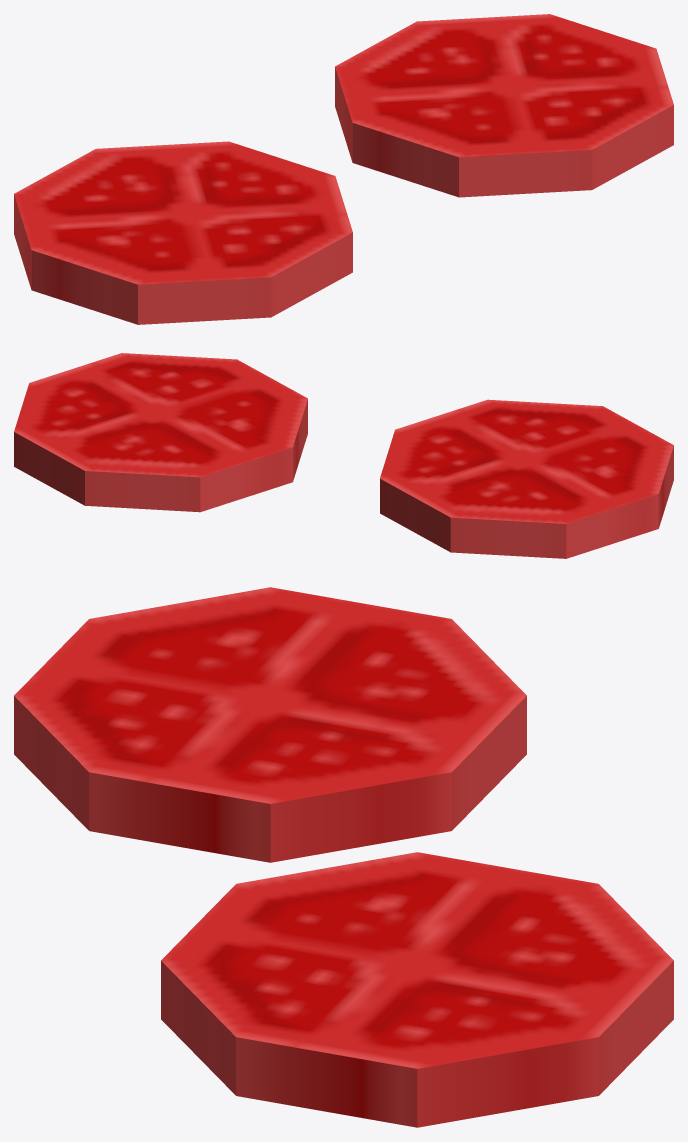
Rendered from Tomato.fbx.
3 views of the same model, one above another, from view 1: azimuth 30°, elevation 25°; view 2: azimuth 150°, elevation 25°; view 3: azimuth 270°, elevation 25° (orthographic). The views are drawn at different scales.
Parts seen in each view (by area): view 1: polySurface16; view 2: polySurface16; view 3: polySurface16.
Boxes of the visible parts, x1,y1,x2,y2 form: polySurface16: (14,14,673,324); polySurface16: (14,353,673,558); polySurface16: (14,587,673,1127).
Bounding box in the file's own units: 1.23 × 0.0701 × 0.7136.
